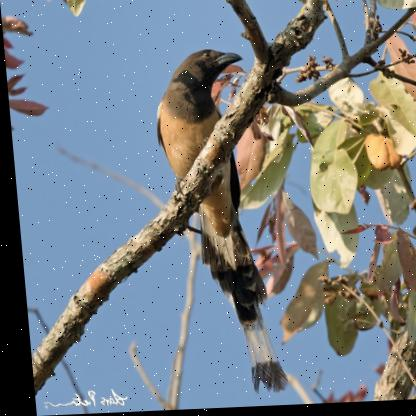Burung: (149, 49, 282, 399)
